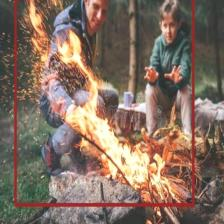fire: (14, 0, 194, 206)
